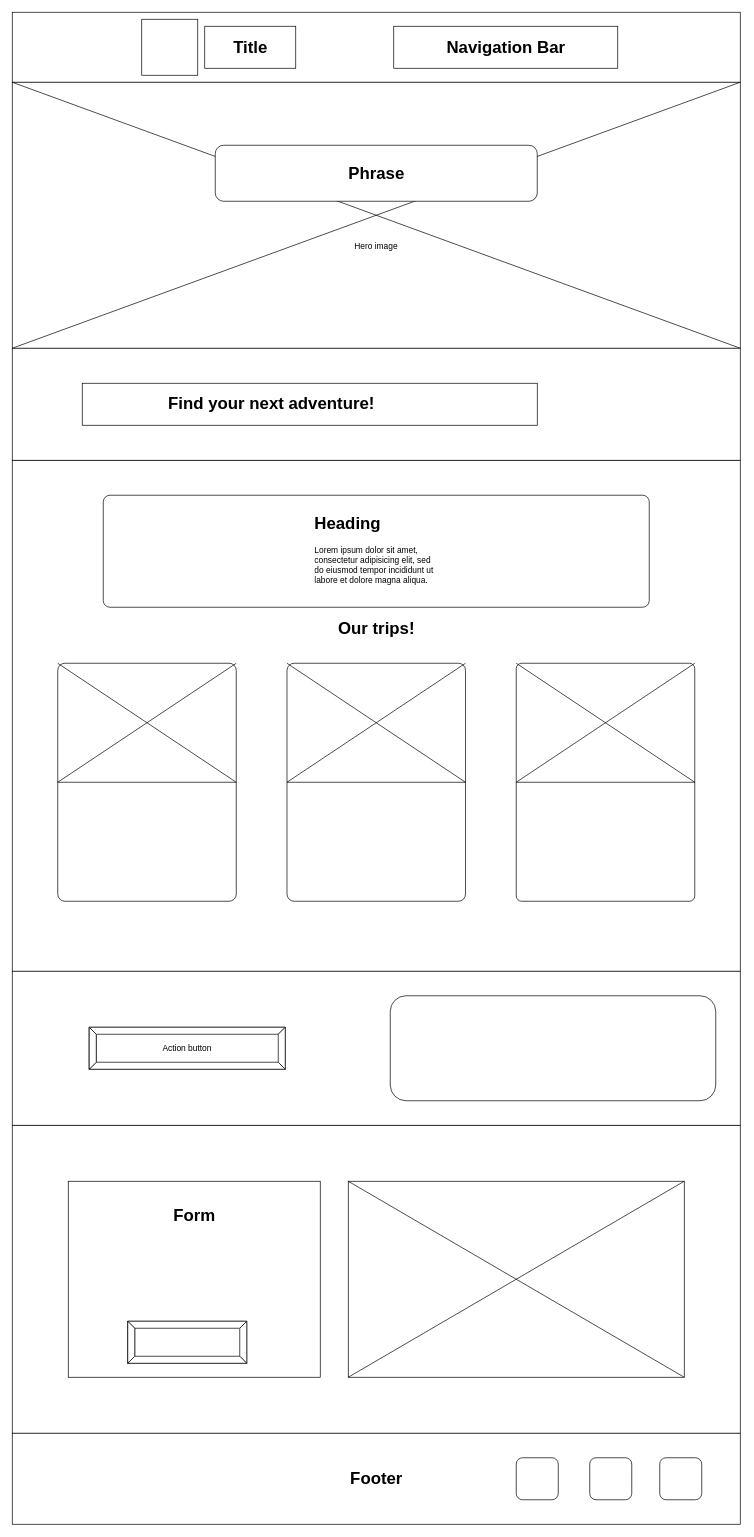
Some shapes in this 754 by 1537 pixel diagram are drawn without their labels. Here are the shapes that lost their labels. From the top down, the centre of each, then its label:
At [169,47]: "Logo".
At [553,1048]: "Do you want to be part of us?".
At [187,1342]: "Submit".
